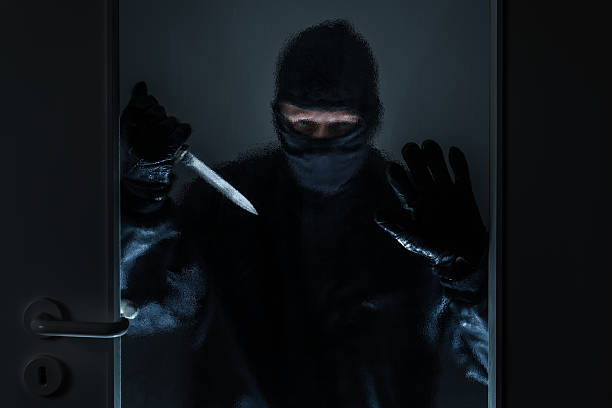knife: (173, 142, 262, 217)
